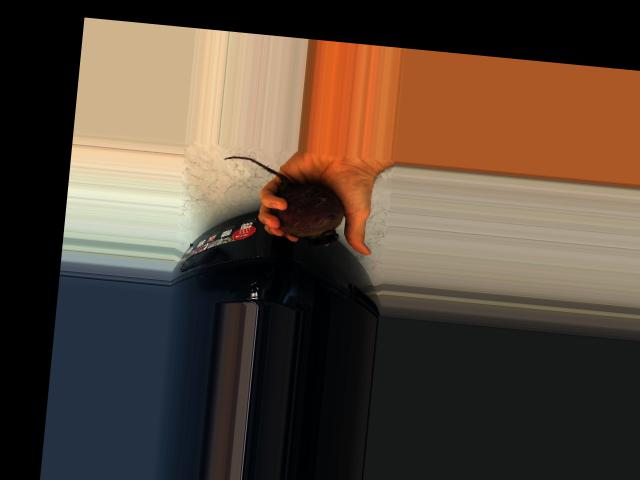beet: (216, 154, 347, 247)
